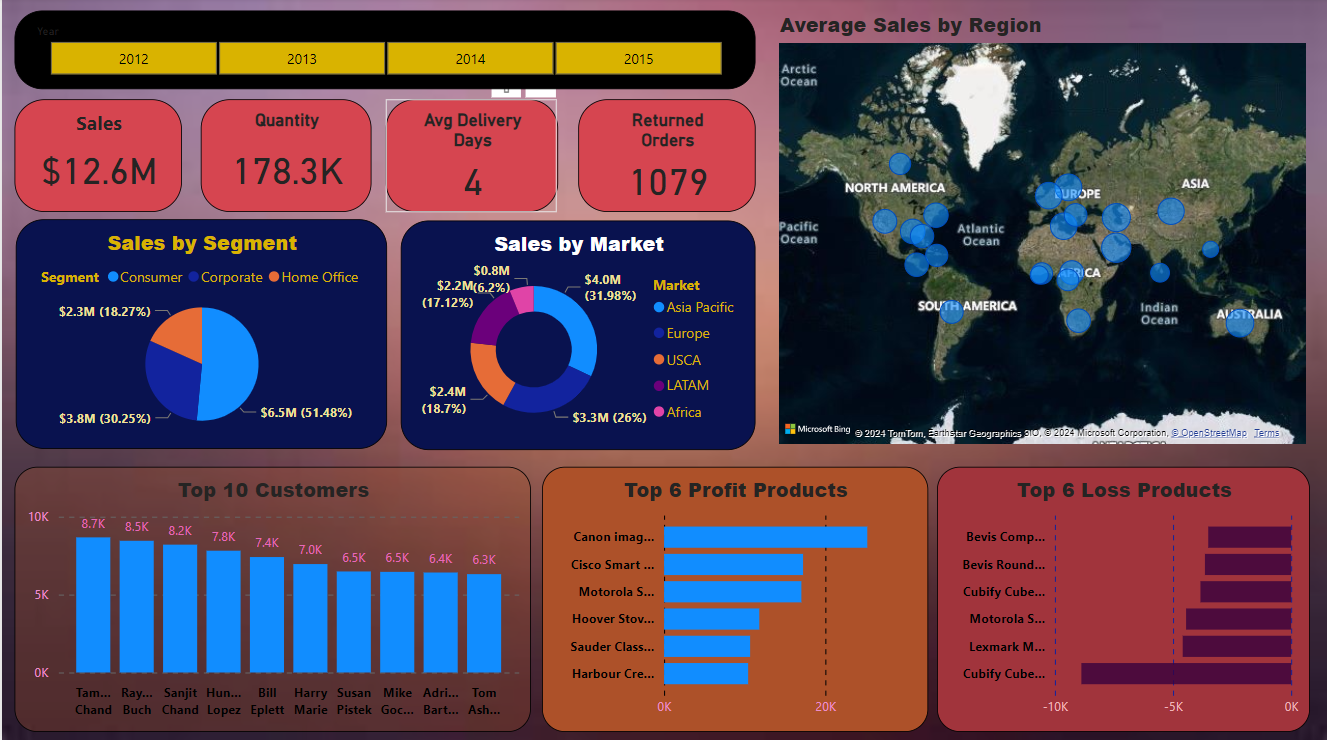

What the dashboard file says about the page in this screenshot:
{"tool":"powerbi","page":{"name":"Page 1","canvas":[1280,720],"ordinal":0},"visuals":[{"type":"card","title":"Sales","fields":{"Values":["Orders.Sales"]},"box":[12.5,97.5,161.2,108.8],"z":0},{"type":"card","title":"Quantity","fields":{"Values":["Orders.Quantity"]},"box":[191.2,97.5,165,108.8],"z":1000},{"type":"card","title":"Avg Delivery Days","fields":{"Values":["Orders.Delivery Days"]},"box":[370,97.5,166.2,108.8],"z":2000},{"type":"slicer","fields":{"Values":["Orders.Year"]},"box":[12.1,12.1,715.4,76],"z":3000},{"type":"card","title":"Returned Orders","fields":{"Values":["Returns.Return Order"]},"box":[556.2,97.5,171.2,108.8],"z":4000},{"type":"map","title":"Average Sales by Region","fields":{"Size":["Orders.Sales"],"Category":["Orders.Region"]},"box":[745,12.5,517.5,423.8],"z":5000},{"type":"clusteredBarChart","title":"Top 6 Profit Products","fields":{"Category":["Orders.Product Name"],"Y":["Orders.Profit"]},"box":[521.2,452.5,372.5,256.2],"z":6000},{"type":"clusteredBarChart","title":"Top 6 Loss Products","fields":{"Category":["Orders.Product Name"],"Y":["Orders.Profit"]},"box":[902.5,452.5,360,256.2],"z":7000},{"type":"pieChart","title":"Sales by Segment","fields":{"Y":["Orders.Sales"],"Category":["Orders.Segment"]},"box":[12.5,215,357.5,221.2],"z":8000},{"type":"donutChart","title":"Sales by Market","fields":{"Y":["Orders.Sales"],"Category":["Orders.Market"]},"box":[385,215,342.5,221.2],"z":9000},{"type":"columnChart","title":"Top 10 Customers","fields":{"Category":["Orders.Customer Name"],"Y":["Orders.Profit"]},"box":[12.1,452.4,498.3,255.8],"z":10000}]}

Visuals, with their boxes in screenshot pixels (x1, y1, x2, y2), scaled from the page's 1280x720 canvas onto the 1327x740 screenshot:
"Sales" card: Rect(13, 100, 180, 212)
"Quantity" card: Rect(198, 100, 369, 212)
"Avg Delivery Days" card: Rect(384, 100, 556, 212)
slicer - Orders.Year: Rect(13, 12, 754, 91)
"Returned Orders" card: Rect(577, 100, 754, 212)
"Average Sales by Region" map: Rect(772, 13, 1309, 448)
"Top 6 Profit Products" clusteredBarChart: Rect(540, 465, 927, 728)
"Top 6 Loss Products" clusteredBarChart: Rect(936, 465, 1309, 728)
"Sales by Segment" pieChart: Rect(13, 221, 384, 448)
"Sales by Market" donutChart: Rect(399, 221, 754, 448)
"Top 10 Customers" columnChart: Rect(13, 465, 529, 728)
